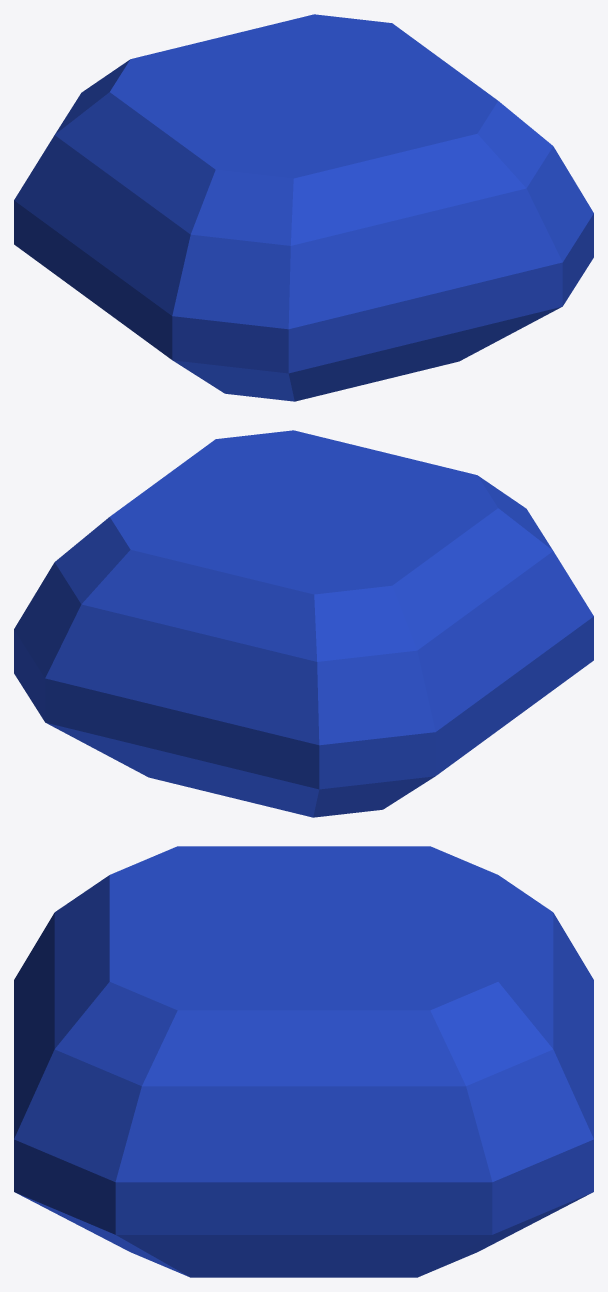
Rendered from SM_Sapphire_Flawless.fbx.
3 views of the same model, one above another, from view 1: azimuth 30°, elevation 25°; view 2: azimuth 150°, elevation 25°; view 3: azimuth 270°, elevation 25° (orthographic). The views are drawn at different scales.
Visible parts, largest first — view 1: SM_Sapphire_Flawless; view 2: SM_Sapphire_Flawless; view 3: SM_Sapphire_Flawless.
Part boxes in pixels (<box>): SM_Sapphire_Flawless: <box>14,14,593,401</box>; SM_Sapphire_Flawless: <box>14,430,593,817</box>; SM_Sapphire_Flawless: <box>14,846,593,1277</box>.
Size of the model in its own units: 20 by 20 by 12.5.
